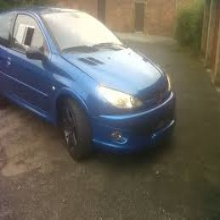no damage: (1, 7, 177, 161)
